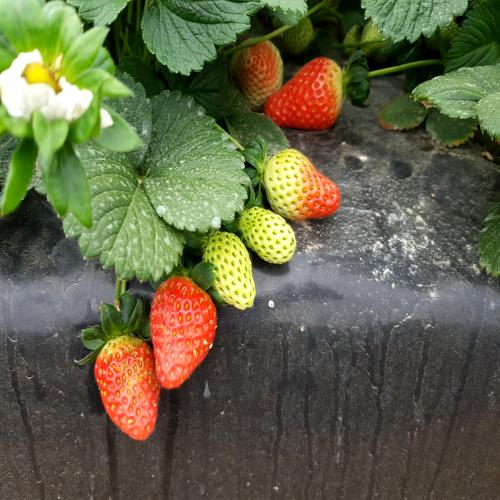ripe: (151, 259, 221, 393), (84, 333, 161, 444), (262, 56, 353, 140)
